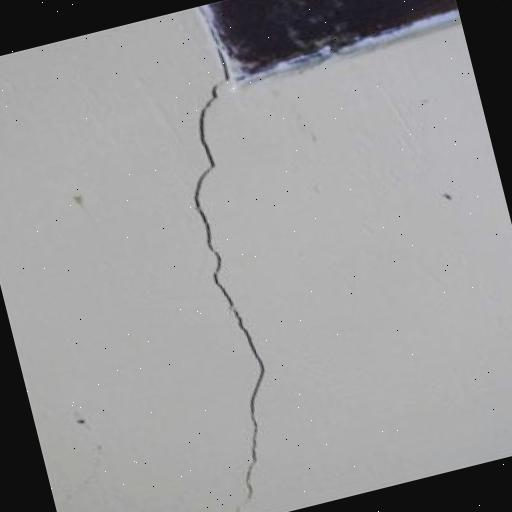spalling: (183, 77, 275, 512)
